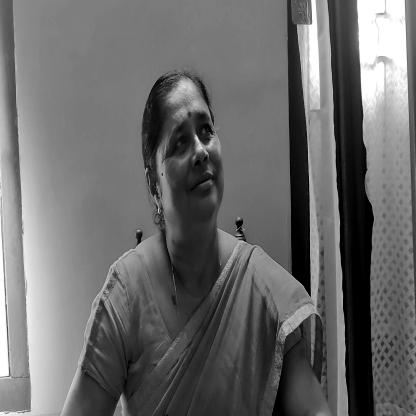Distracted: (143, 61, 227, 237)
